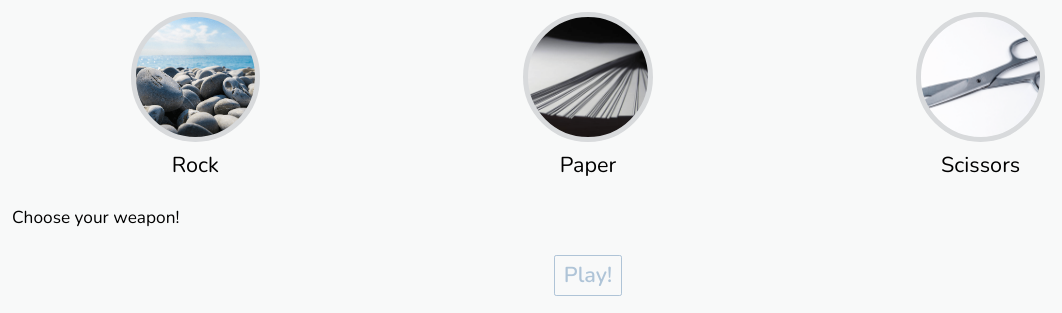
it: Choice Area › should display the right chosen option, if the user chose
Expected: the text "Choose your weapon!" is shown, [12,206,179,229]
What coordinates should you click on to do the following:
click the button "Rock"
I would click on:
 (195, 96)
Its box is [131,12,260,180].
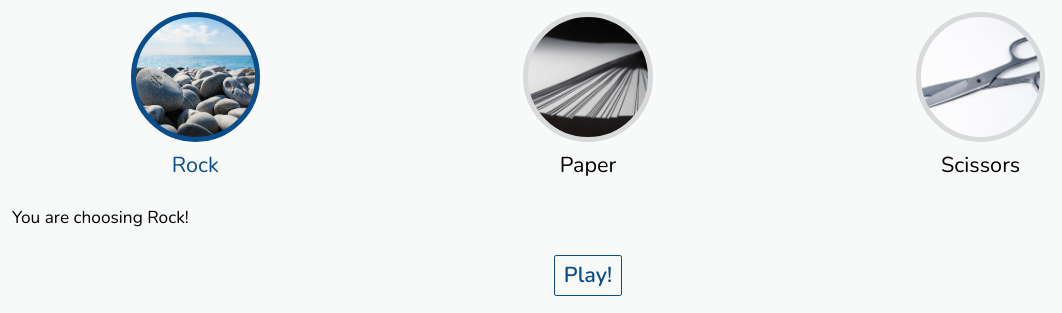
Result: the text "choose" shows "Rock" at [12,206,189,229]
